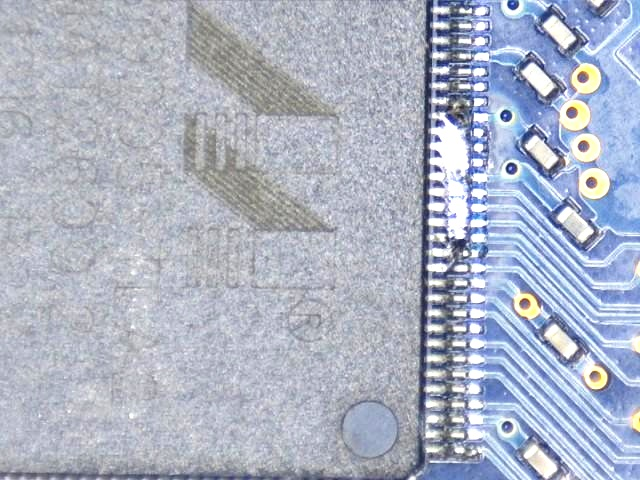pcb_defect: (427, 97, 488, 243)
